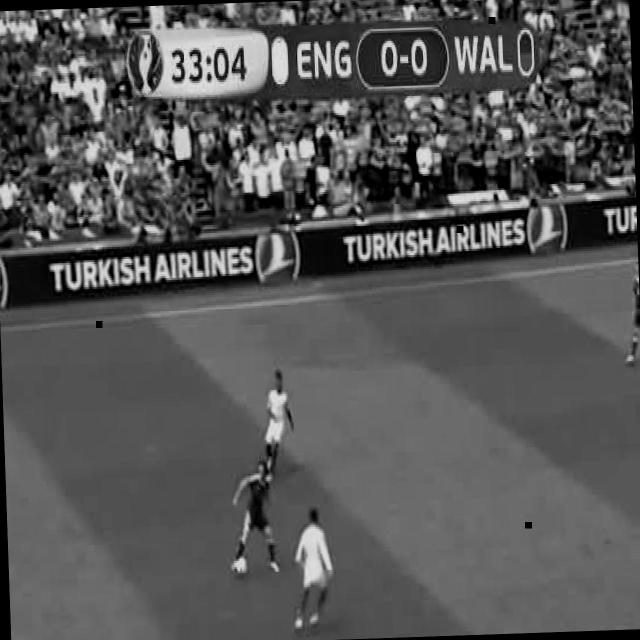ball: (235, 556, 247, 574)
player-white: (229, 461, 279, 576), (290, 508, 334, 632), (263, 370, 295, 486), (620, 262, 640, 368)
